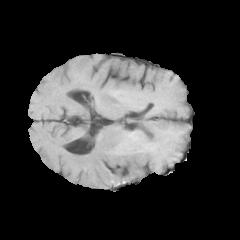glioma: (56, 119, 173, 185)
